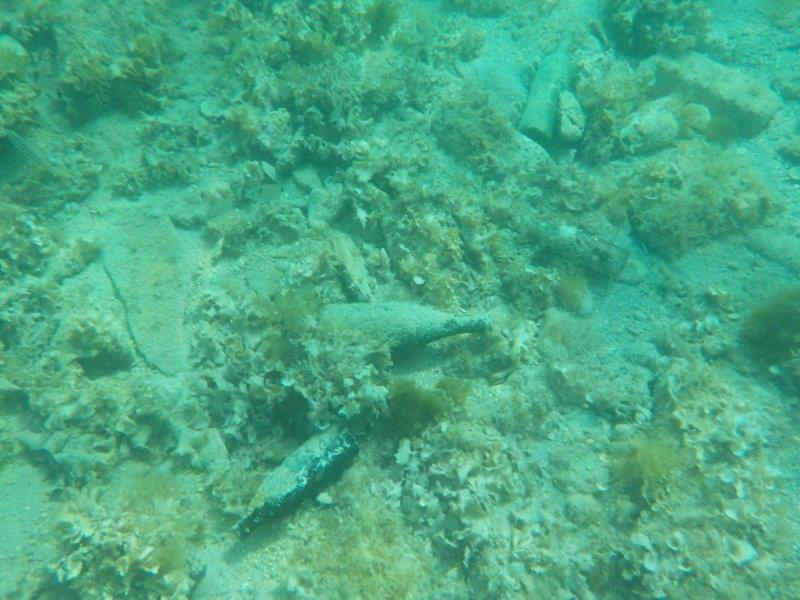bottle: (229, 416, 362, 541), (305, 298, 497, 362), (519, 19, 583, 147), (520, 212, 629, 279)
